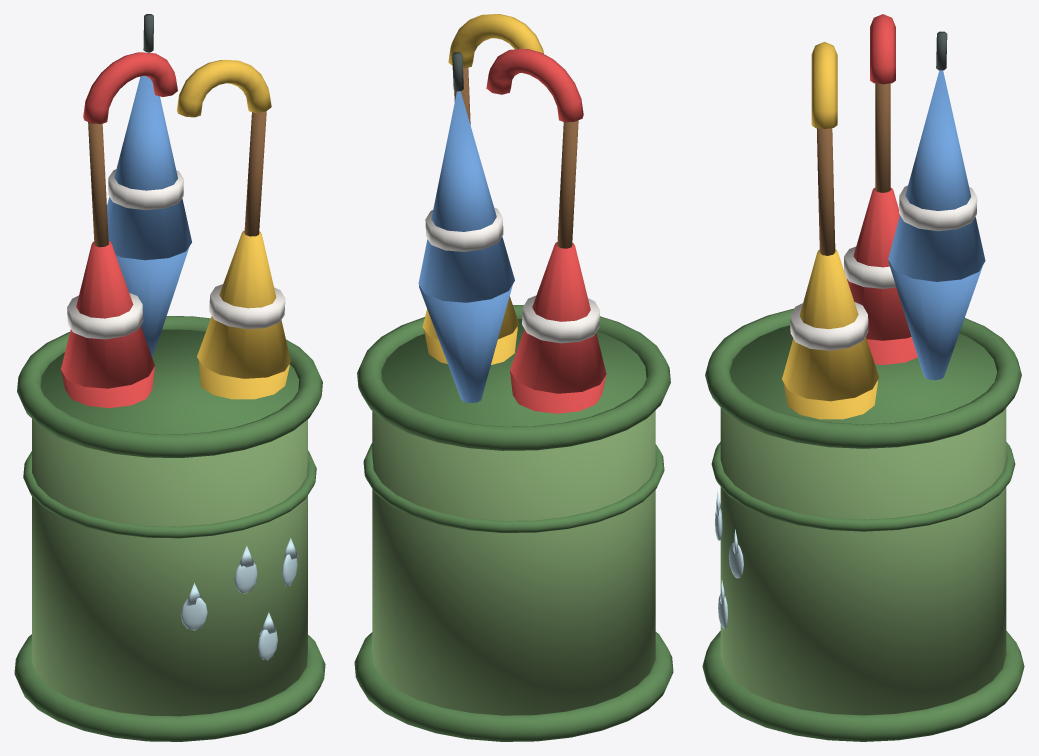
Rendered from umbrella-stand.glb.
The picture shows the model from 3 angles, left to right: view 1: azimuth 30°, elevation 25°; view 2: azimuth 150°, elevation 25°; view 3: azimuth 270°, elevation 25°; orthographic projection. The views are drawn at different scales.
Visible parts, largest first — view 1: stand, umbrellas; view 2: stand, umbrellas; view 3: stand, umbrellas.
Boxes of the visible parts, box(x1,y1,x2,y2) form: stand: box(14, 316, 325, 741); umbrellas: box(61, 14, 290, 407); stand: box(354, 305, 673, 741); umbrellas: box(418, 14, 606, 413); stand: box(702, 308, 1024, 741); umbrellas: box(782, 14, 985, 419).
Size of the model in its own units: 0.496 by 1.11 by 0.496.
